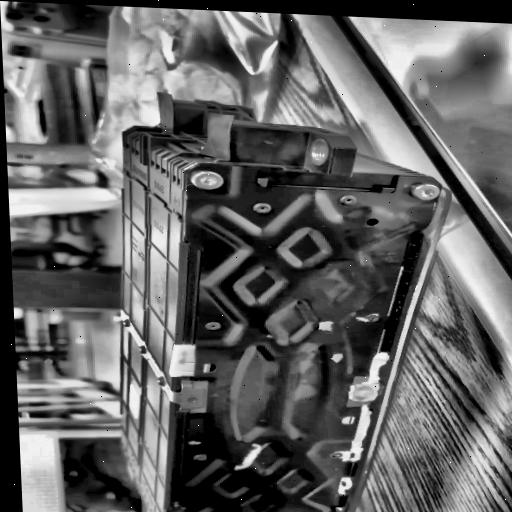battery_module: (101, 88, 474, 512)
